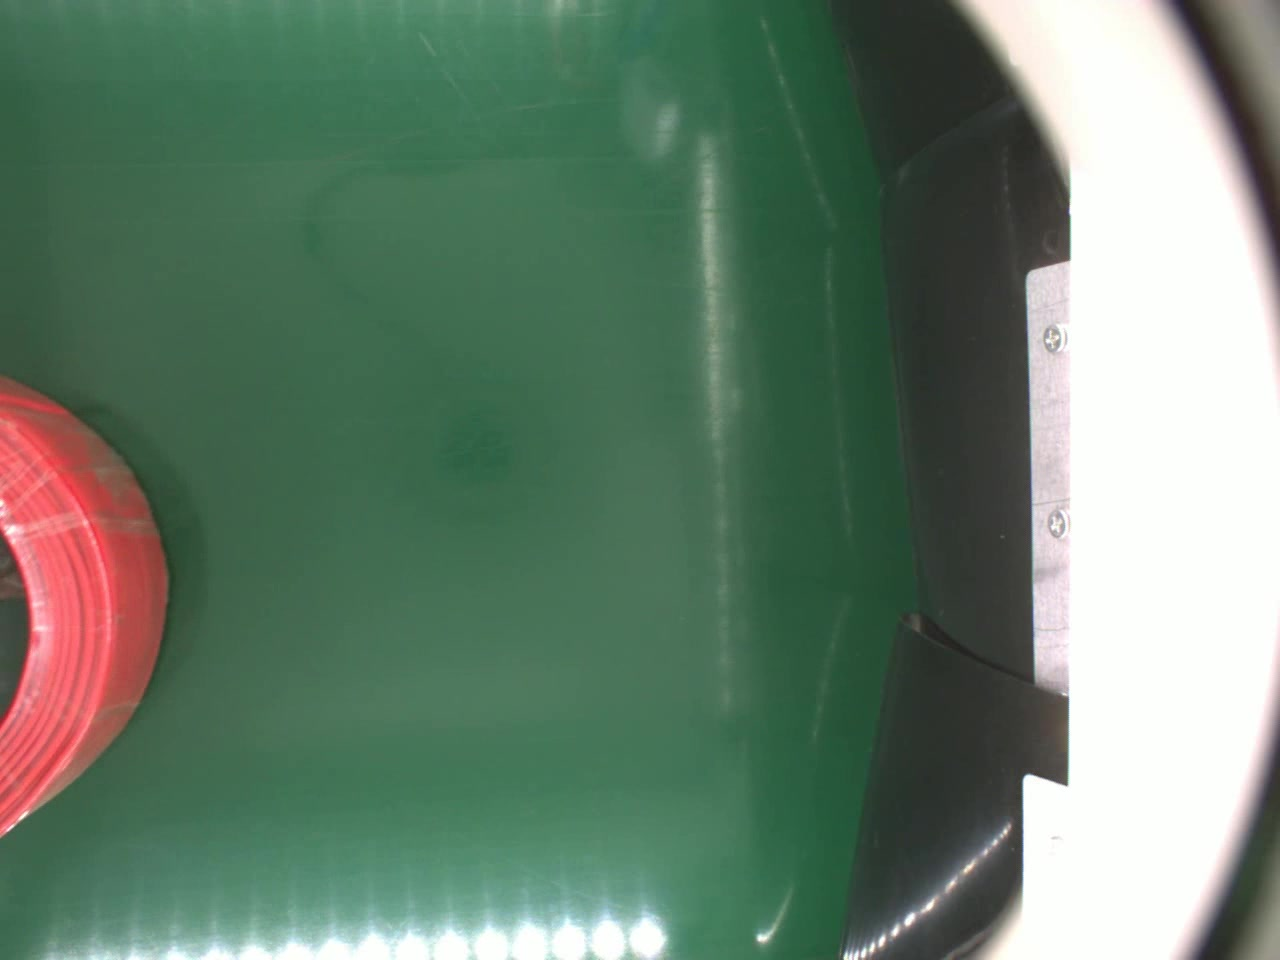red: (0, 374, 176, 839)
